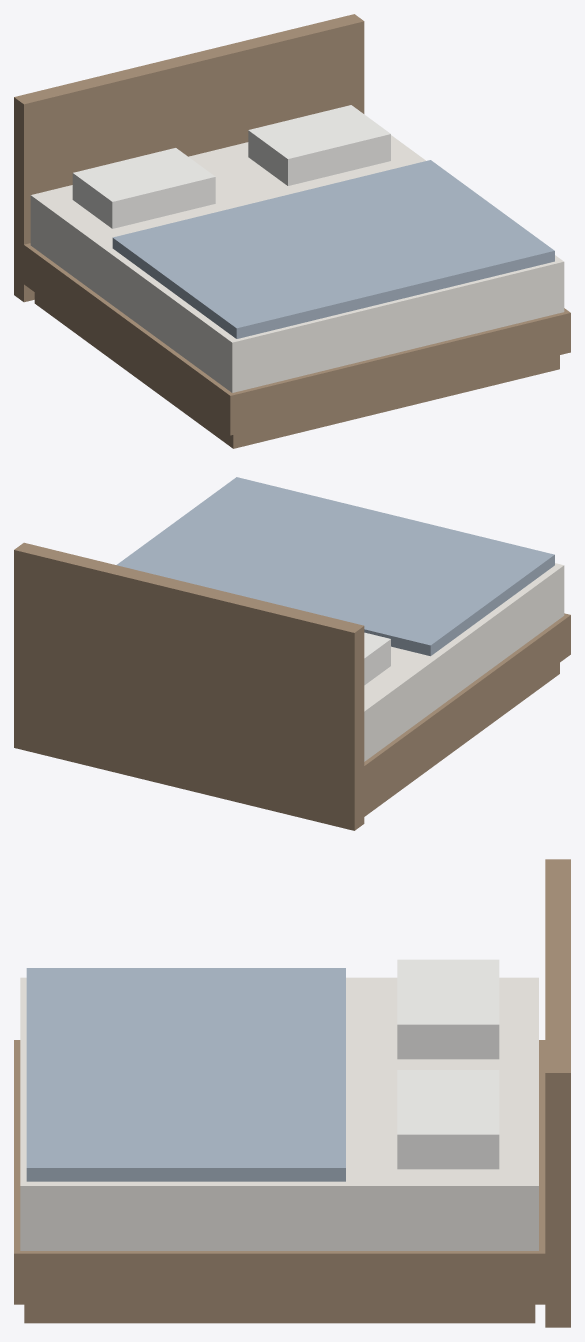
File: bed-king.gltf
The picture shows the model from 3 angles, top to bottom: view 1: azimuth 30°, elevation 25°; view 2: azimuth 150°, elevation 25°; view 3: azimuth 270°, elevation 25°; orthographic projection. The views are drawn at different scales.
Parts seen in each view (by area): view 1: Blanket, Mattress, Headboard, Frame, PillowA, PillowB, Plinth; view 2: Headboard, Blanket, Mattress, Frame, Plinth, PillowA; view 3: Blanket, Mattress, Frame, Headboard, PillowA, PillowB, Plinth.
Part boxes in pixels (bbox=[...]): Blanket: bbox=[112, 160, 554, 338]; Mattress: bbox=[30, 135, 564, 392]; Headboard: bbox=[14, 14, 364, 302]; Frame: bbox=[24, 243, 570, 435]; PillowA: bbox=[72, 148, 215, 228]; PillowB: bbox=[248, 105, 390, 185]; Plinth: bbox=[34, 292, 559, 448]; Headboard: bbox=[14, 542, 364, 830]; Blanket: bbox=[116, 477, 554, 656]; Mattress: bbox=[364, 563, 564, 761]; Frame: bbox=[364, 613, 570, 805]; Plinth: bbox=[364, 663, 559, 816]; PillowA: bbox=[364, 632, 390, 685]; Blanket: bbox=[26, 968, 345, 1181]; Mattress: bbox=[20, 977, 538, 1250]; Frame: bbox=[14, 1040, 545, 1304]; Headboard: bbox=[545, 859, 570, 1327]; PillowA: bbox=[397, 959, 499, 1059]; PillowB: bbox=[397, 1070, 499, 1169]; Plinth: bbox=[24, 1304, 535, 1323].
Size of the model in its own units: 0.1238 by 0.0688 by 0.1363.
